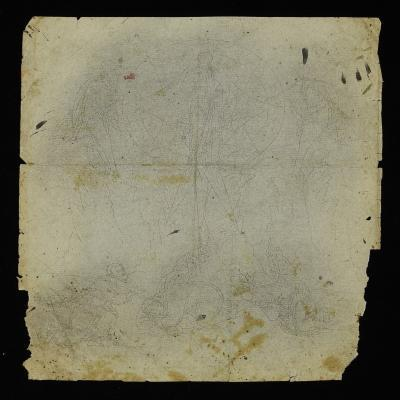graphics: (17, 17, 383, 382)
